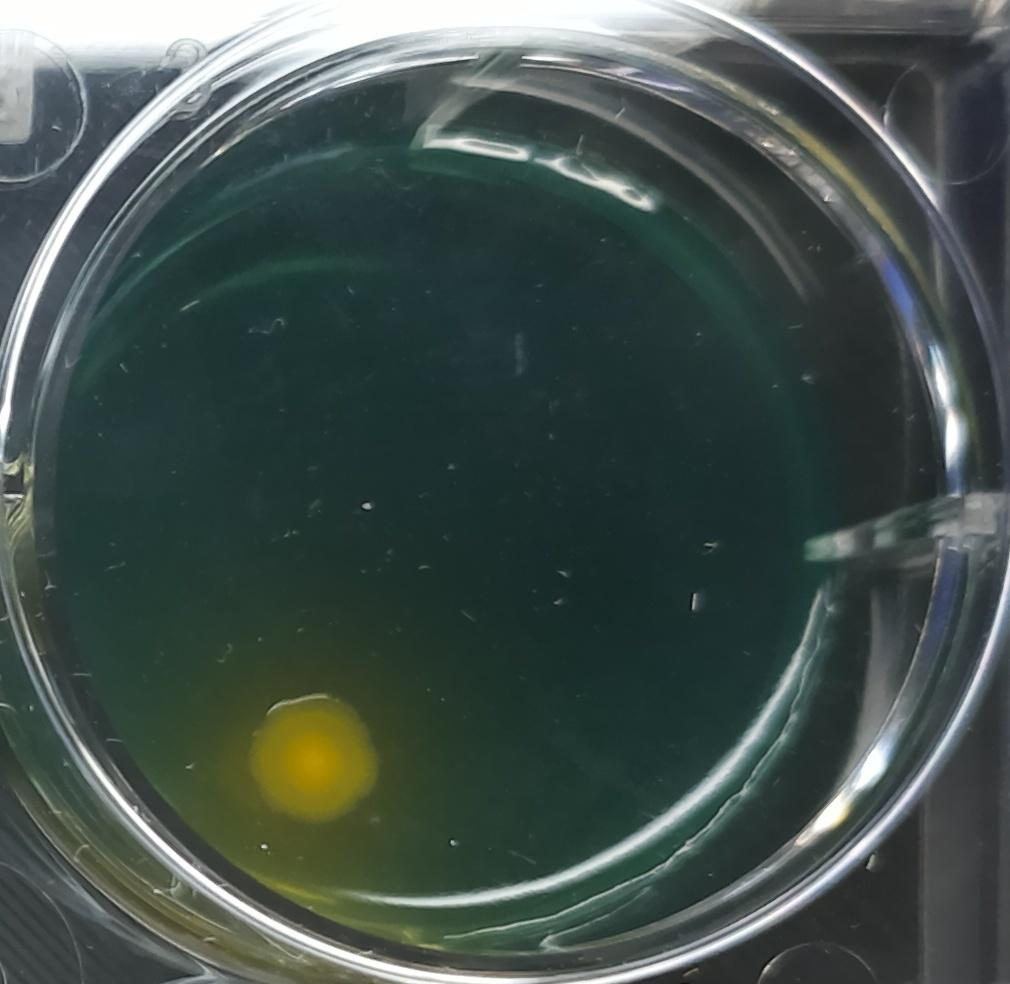vharveyi: (223, 663, 414, 861)
